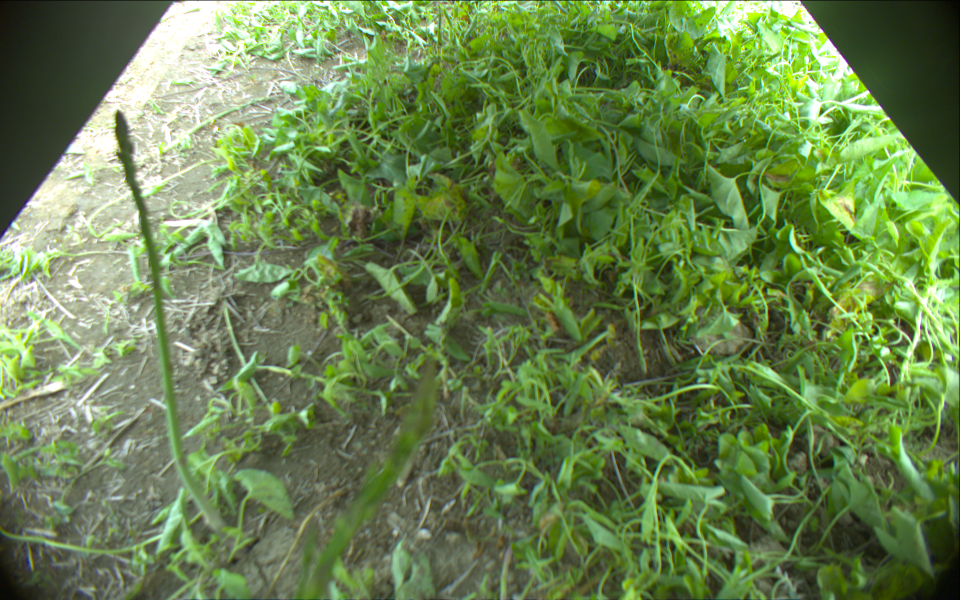aspa: (114, 110, 229, 534), (297, 355, 439, 600), (138, 95, 280, 164)
